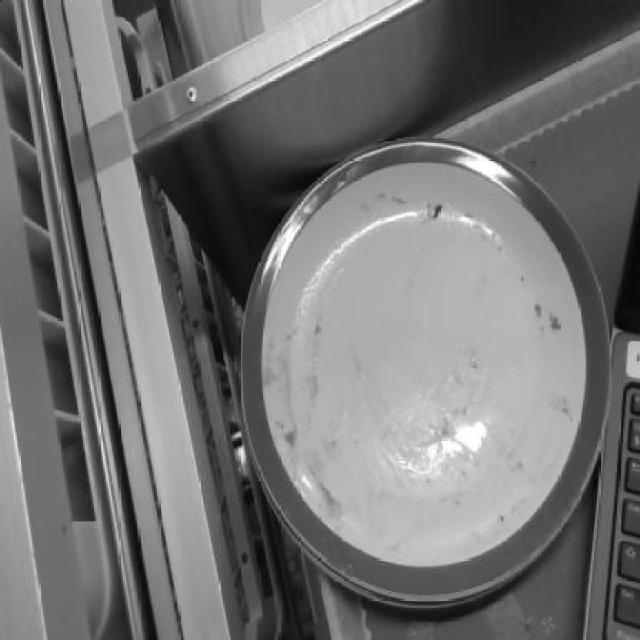plate: (239, 141, 610, 610)
